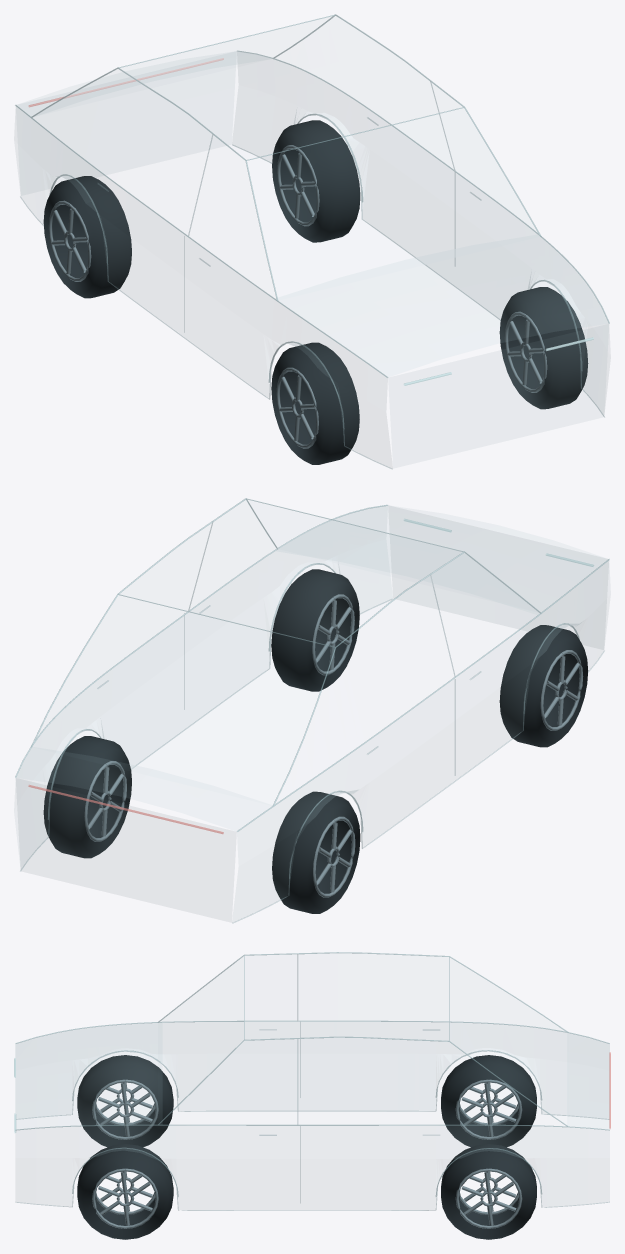
The model's file is hyundai_kona.glb.
3 views of the same model, one above another, from view 1: azimuth 30°, elevation 25°; view 2: azimuth 150°, elevation 25°; view 3: azimuth 270°, elevation 25° (orthographic). The views are drawn at different scales.
Visible parts, largest first — view 1: shell_body, shell_tyre_left_rear, shell_tyre_right_rear, shell_tyre_right_front, shell_tyre_left_front, shell_contours, shell_details, shell_rim_right_front, shell_rim_left_rear, shell_rim_right_rear, shell_rim_left_front; view 2: shell_body, shell_tyre_left_front, shell_tyre_right_rear, shell_tyre_right_front, shell_tyre_left_rear, shell_contours, shell_details, shell_rim_right_rear, shell_rim_left_front, shell_rim_right_front, shell_rim_left_rear, shell_rear_lamps; view 3: shell_body, shell_tyre_left_front, shell_tyre_left_rear, shell_tyre_right_front, shell_tyre_right_rear, shell_contours, shell_rim_left_front, shell_rim_right_front, shell_rim_left_rear, shell_rim_right_rear, shell_details.
Part boxes in pixels (bbox=[...]): shell_body: bbox=[16, 51, 608, 438]; shell_tyre_left_rear: bbox=[272, 120, 360, 242]; shell_tyre_right_rear: bbox=[43, 176, 131, 298]; shell_tyre_right_front: bbox=[271, 342, 359, 464]; shell_tyre_left_front: bbox=[499, 287, 588, 409]; shell_contours: bbox=[15, 14, 609, 428]; shell_details: bbox=[20, 81, 604, 469]; shell_rim_right_front: bbox=[276, 367, 318, 448]; shell_rim_left_rear: bbox=[277, 145, 319, 226]; shell_rim_right_rear: bbox=[48, 200, 91, 281]; shell_rim_left_front: bbox=[504, 311, 547, 392]; shell_body: bbox=[16, 506, 608, 885]; shell_tyre_left_front: bbox=[271, 569, 359, 691]; shell_tyre_right_rear: bbox=[272, 791, 360, 913]; shell_tyre_right_front: bbox=[499, 625, 588, 747]; shell_tyre_left_rear: bbox=[43, 736, 131, 858]; shell_contours: bbox=[15, 498, 609, 878]; shell_details: bbox=[20, 523, 604, 923]; shell_rim_right_rear: bbox=[313, 816, 355, 897]; shell_rim_left_front: bbox=[312, 594, 354, 675]; shell_rim_right_front: bbox=[540, 650, 583, 730]; shell_rim_left_rear: bbox=[84, 761, 126, 841]; shell_rear_lamps: bbox=[28, 785, 223, 834]; shell_body: bbox=[15, 1023, 609, 1160]; shell_tyre_left_front: bbox=[77, 1144, 173, 1239]; shell_tyre_left_rear: bbox=[441, 1144, 536, 1239]; shell_tyre_right_front: bbox=[77, 1055, 173, 1147]; shell_tyre_right_rear: bbox=[441, 1055, 536, 1147]; shell_contours: bbox=[15, 952, 609, 1196]; shell_rim_left_front: bbox=[92, 1168, 158, 1228]; shell_rim_right_front: bbox=[92, 1079, 158, 1139]; shell_rim_left_rear: bbox=[455, 1168, 522, 1228]; shell_rim_right_rear: bbox=[455, 1079, 522, 1139]; shell_details: bbox=[15, 954, 609, 1210].
Bounding box in the file's own units: 1.83 × 1.59 × 4.37.
